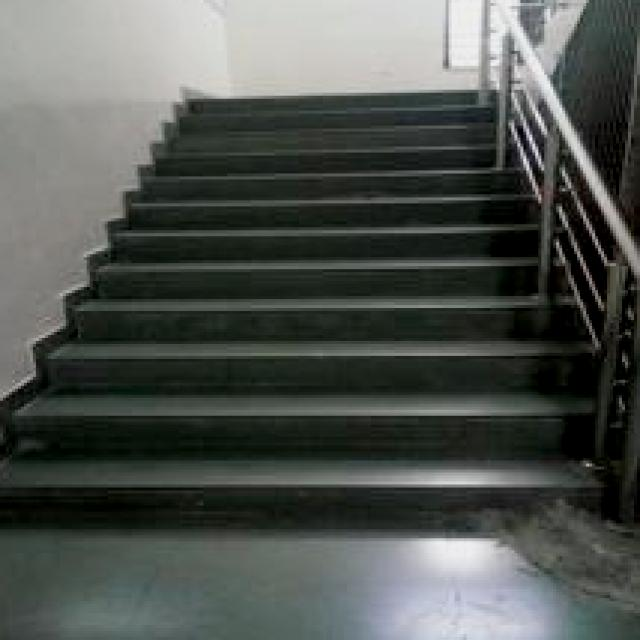upstair: (16, 285, 497, 533)
